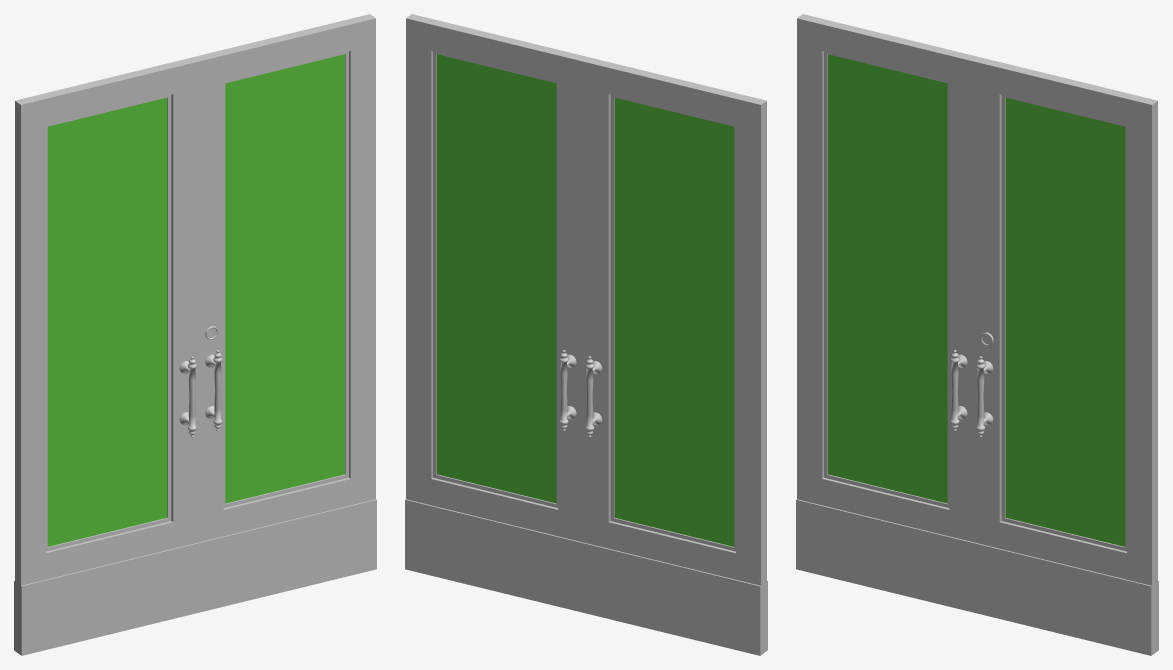
Rendered from Door_3.fbx.
The picture shows the model from 3 angles, left to right: view 1: azimuth 30°, elevation 25°; view 2: azimuth 150°, elevation 25°; view 3: azimuth 330°, elevation 25°; orthographic projection.
Visible parts, largest first — view 1: Doors.004, Doors.003; view 2: Doors.004, Doors.003; view 3: Doors.003, Doors.004.
Boxes of the visible parts, x1=… form: Doors.004: x1=14, y1=57, x2=199, y2=655; Doors.003: x1=193, y1=14, x2=376, y2=612; Doors.004: x1=582, y1=57, x2=767, y2=655; Doors.003: x1=405, y1=14, x2=588, y2=612; Doors.003: x1=973, y1=57, x2=1158, y2=655; Doors.004: x1=796, y1=14, x2=979, y2=612.
Size of the model in its own units: 1.81 by 2.68 by 0.2121.
